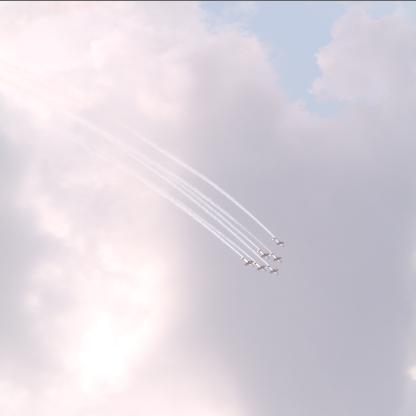aircraft: (271, 236, 285, 249), (239, 256, 254, 268), (269, 254, 282, 265), (253, 262, 267, 272), (257, 248, 270, 258), (266, 265, 280, 274)
